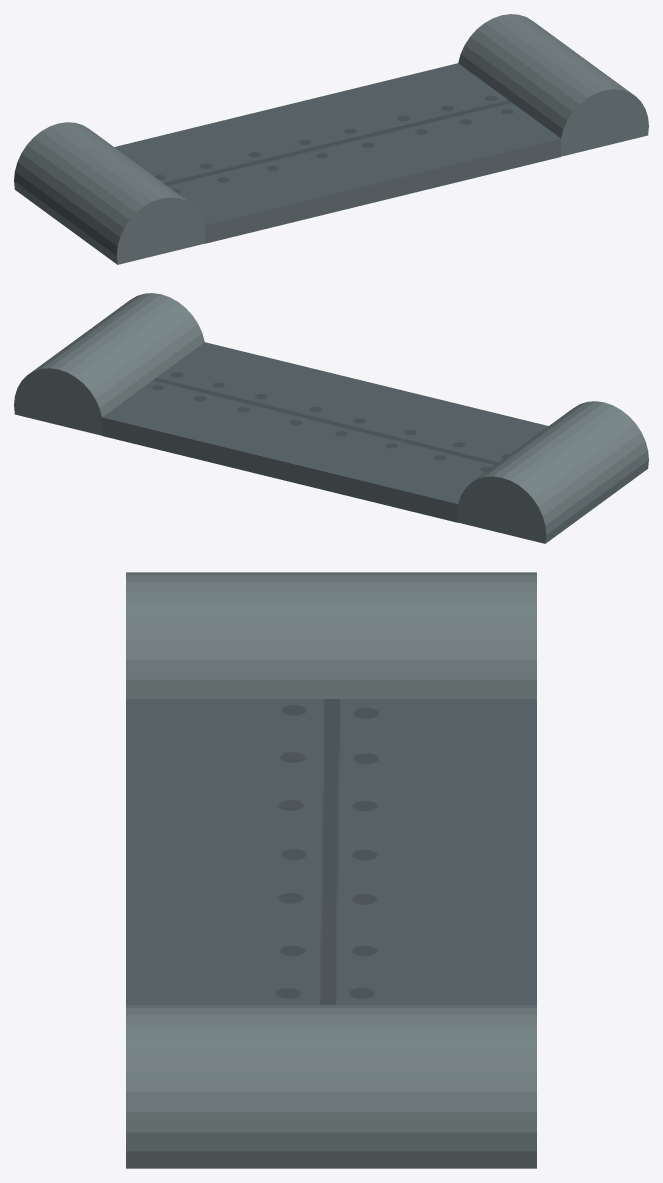
File: lobby-way.glb
The picture shows the model from 3 angles, top to bottom: view 1: azimuth 30°, elevation 25°; view 2: azimuth 150°, elevation 25°; view 3: azimuth 270°, elevation 25°; orthographic projection. The views are drawn at different scales.
Parts seen in each view (by area): view 1: Cylinder.001; view 2: Cylinder.001; view 3: Cylinder.001.
Boxes of the visible parts, bbox=[...] form: Cylinder.001: bbox=[14, 14, 648, 264]; Cylinder.001: bbox=[14, 293, 648, 543]; Cylinder.001: bbox=[126, 572, 536, 1168].
Size of the model in its own units: 5.98 by 0.6 by 2.
Materials: 1 (1 with a texture image).
